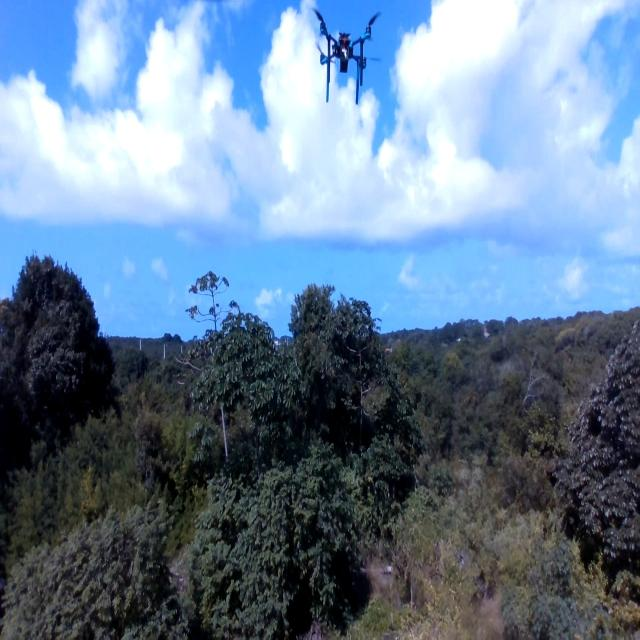-uav-: (307, 0, 383, 114)
